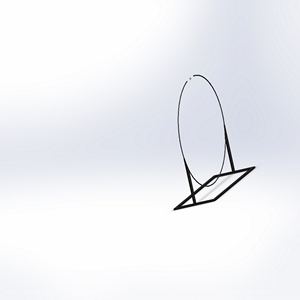circle: (172, 72, 257, 212)
